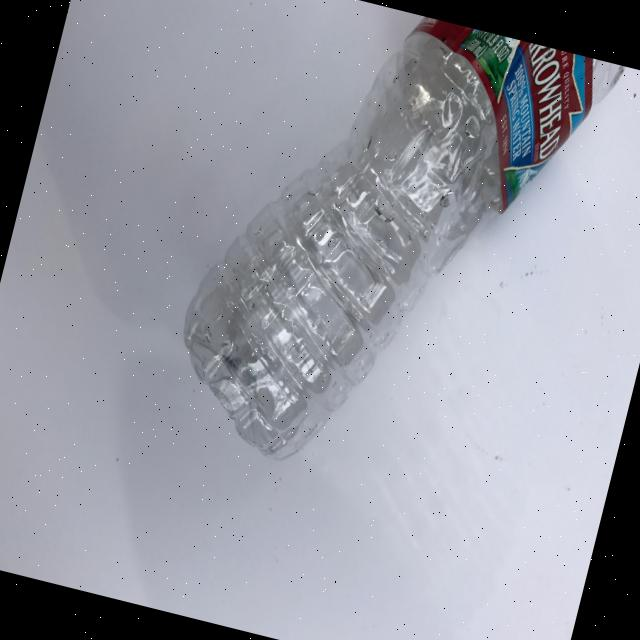plastic: (155, 0, 625, 520)
